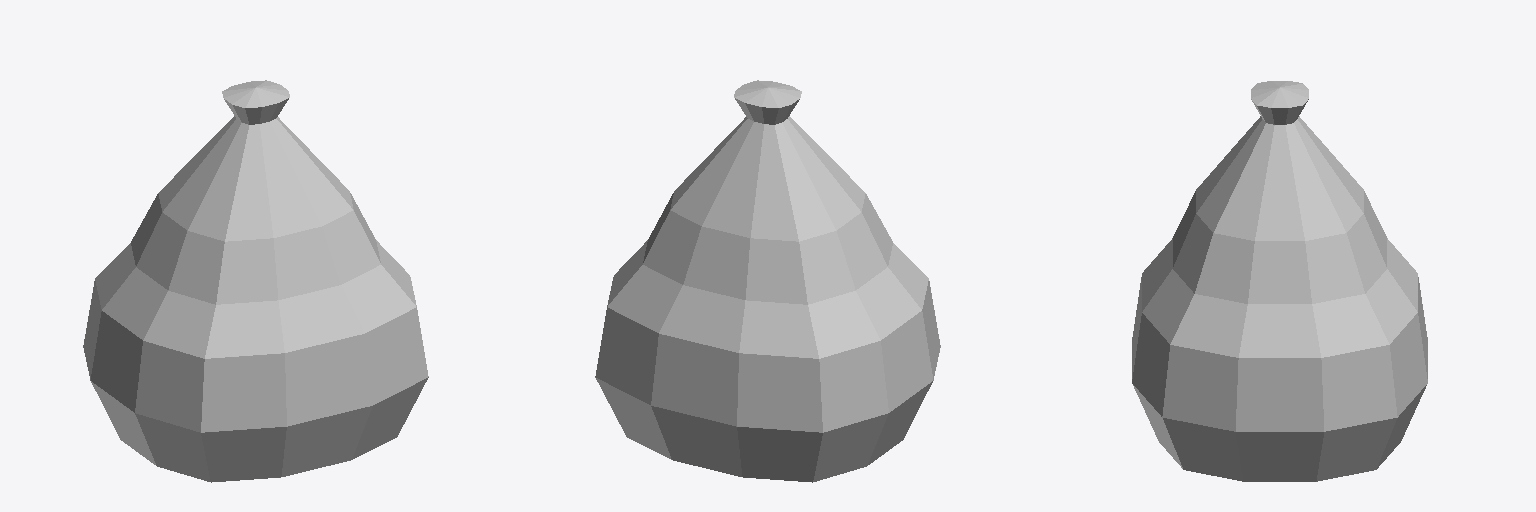
File: sampah1.obj
3 renders of one model, left to right at view 1: azimuth 30°, elevation 25°; view 2: azimuth 150°, elevation 25°; view 3: azimuth 270°, elevation 25°, orthographic.
Parts seen in each view (by area): view 1: bag_15; view 2: bag_15; view 3: bag_15.
Boxes of the visible parts, x1=… form: bag_15: x1=83, y1=80, x2=428, y2=482; bag_15: x1=595, y1=80, x2=940, y2=482; bag_15: x1=1132, y1=81, x2=1427, y2=481.
Size of the model in its own units: 1.77 by 1.99 by 1.58.